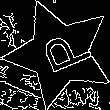P_SW: (28, 26, 90, 81)
